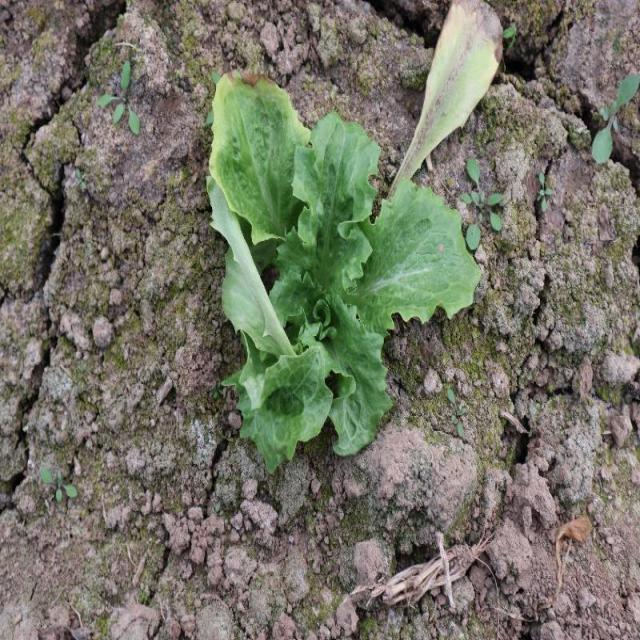crop: (206, 65, 482, 478)
